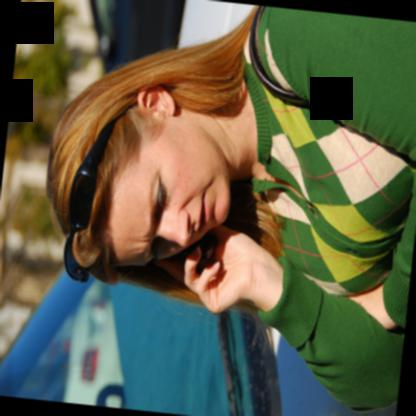handbag: (246, 4, 310, 108)
